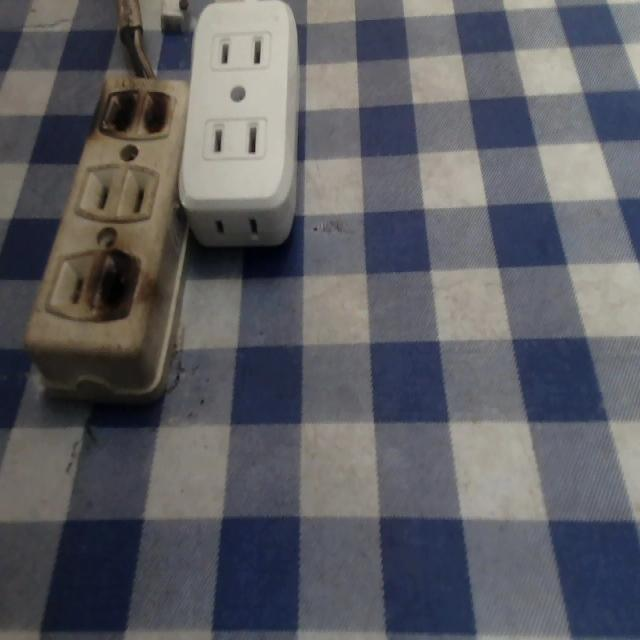-: (99, 81, 176, 144), (92, 247, 142, 324)
